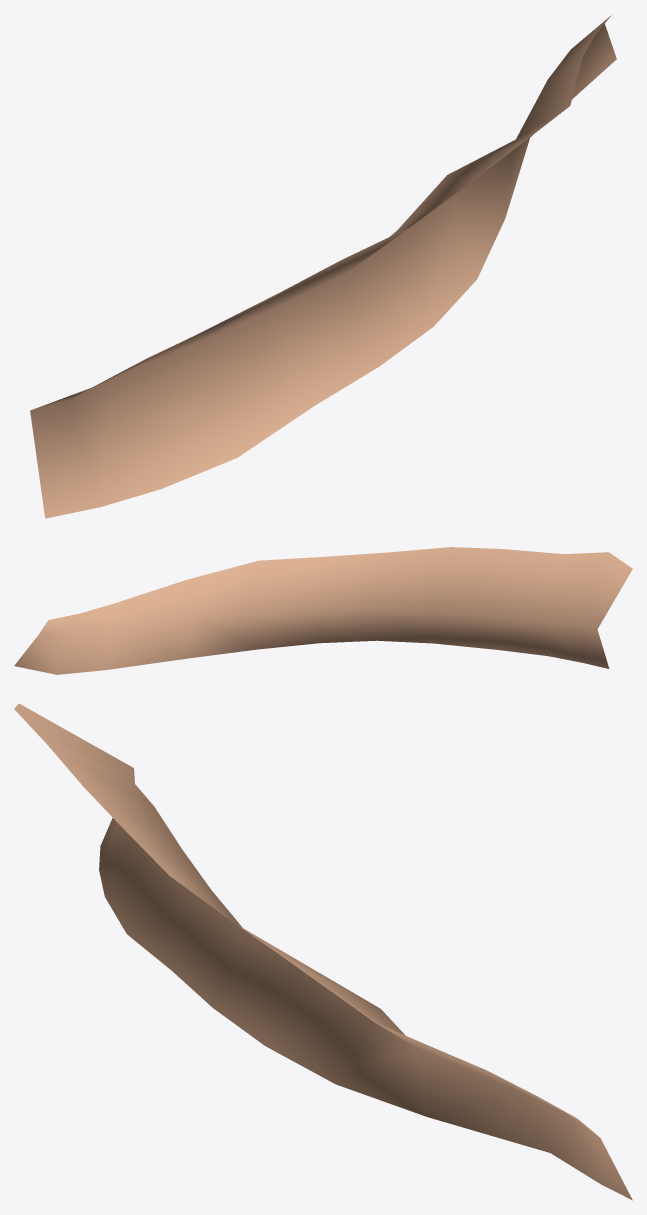
Rendered from labial-commissure-l.glb.
3 renders of one model, top to bottom at view 1: azimuth 30°, elevation 25°; view 2: azimuth 150°, elevation 25°; view 3: azimuth 270°, elevation 25°, orthographic. The views are drawn at different scales.
Parts seen in each view (by area): view 1: Labial commissure.l; view 2: Labial commissure.l; view 3: Labial commissure.l.
Boxes of the visible parts, bbox=[...] form: Labial commissure.l: bbox=[30, 15, 616, 518]; Labial commissure.l: bbox=[14, 547, 632, 674]; Labial commissure.l: bbox=[14, 703, 632, 1200].
Bounding box in the file's own units: 0.0247 × 0.00498 × 0.0175.
